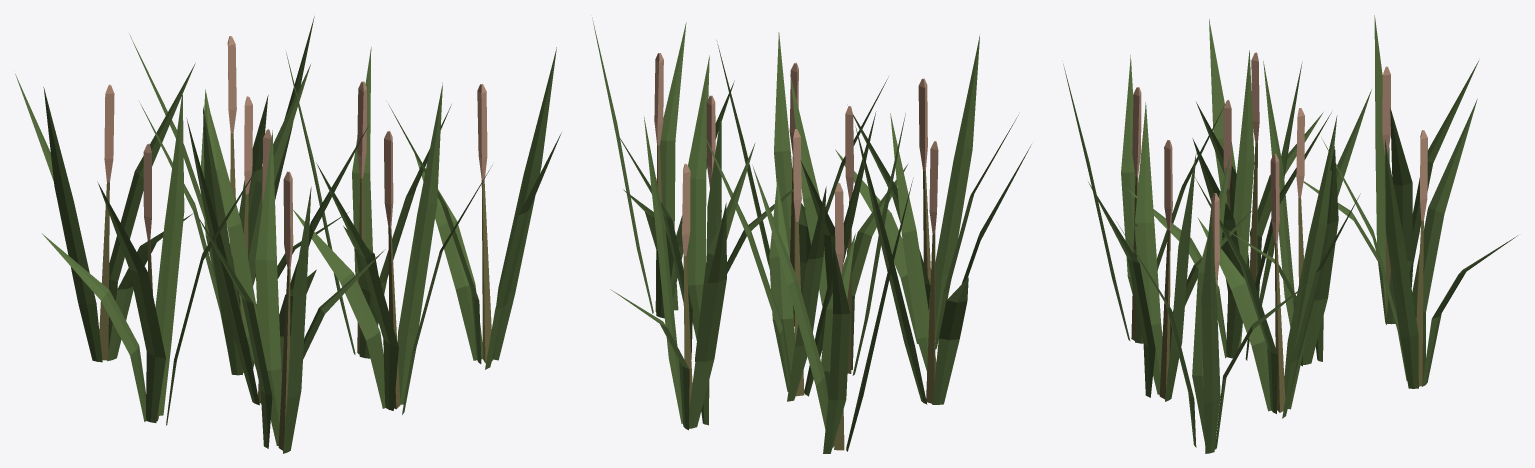
Rendered from Rice_Plant_2 Asia.fbx.
The picture shows the model from 3 angles, left to right: view 1: azimuth 30°, elevation 25°; view 2: azimuth 150°, elevation 25°; view 3: azimuth 270°, elevation 25°; orthographic projection. The views are drawn at different scales.
Parts seen in each view (by area): view 1: Rice_Plant_2; view 2: Rice_Plant_2; view 3: Rice_Plant_2.
Boxes of the visible parts, <box> form: Rice_Plant_2: <box>15,16,561,453</box>; Rice_Plant_2: <box>592,18,1031,453</box>; Rice_Plant_2: <box>1063,15,1517,453</box>.
Bounding box in the file's own units: 1.67 × 1.03 × 1.55.
